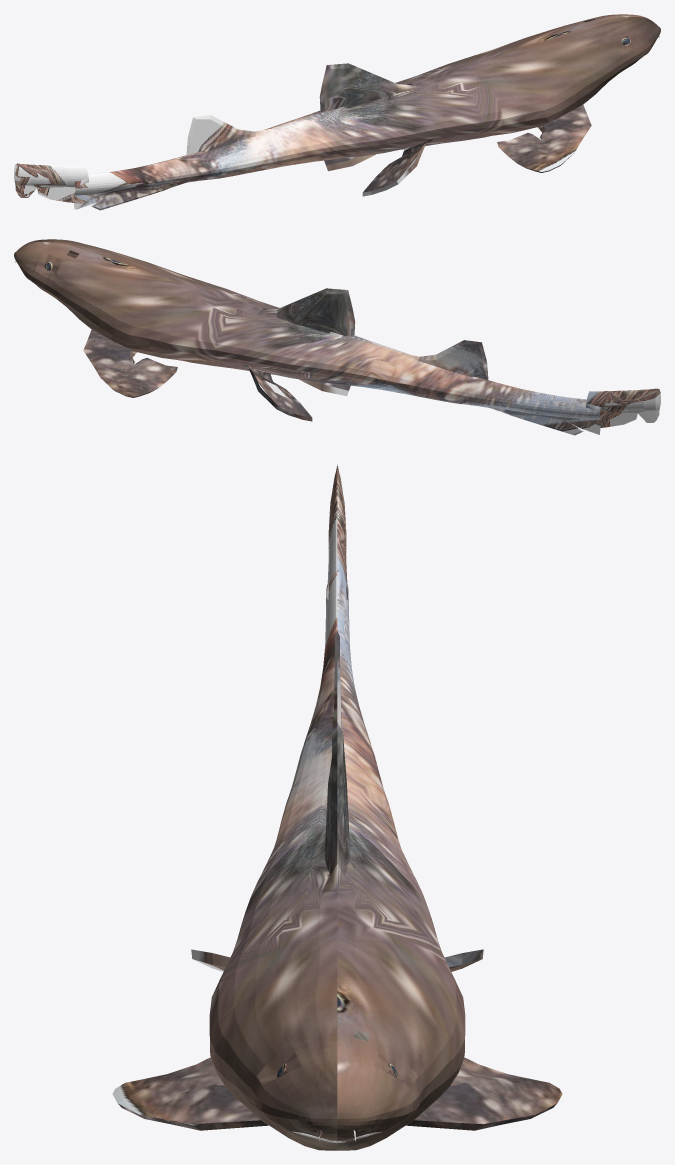
The model's file is Bambooshark.obj.
The picture shows the model from 3 angles, top to bottom: view 1: azimuth 30°, elevation 25°; view 2: azimuth 150°, elevation 25°; view 3: azimuth 270°, elevation 25°; orthographic projection. The views are drawn at different scales.
Visible parts, largest first — view 1: Bambooshark_Mesh; view 2: Bambooshark_Mesh; view 3: Bambooshark_Mesh.
Part boxes in pixels (bbox=[...]): Bambooshark_Mesh: bbox=[14, 14, 660, 210]; Bambooshark_Mesh: bbox=[14, 239, 660, 435]; Bambooshark_Mesh: bbox=[112, 464, 562, 1150].
Size of the model in its own units: 5.77 by 1.06 by 1.75.
1 material, 1 textured.
